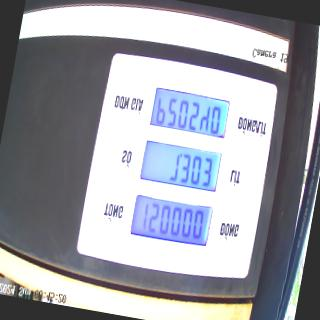screen: (127, 84, 235, 251)
